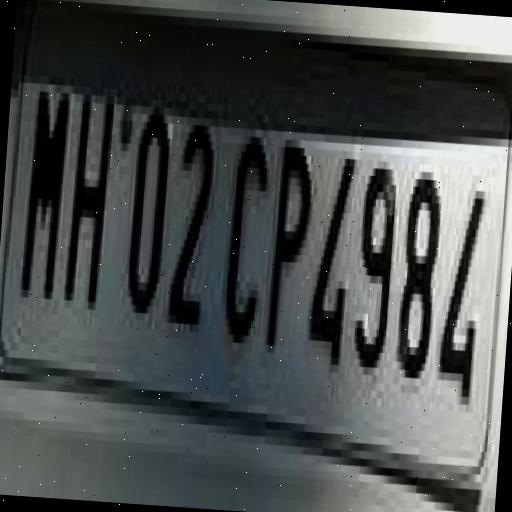number plate: (0, 0, 495, 465)
